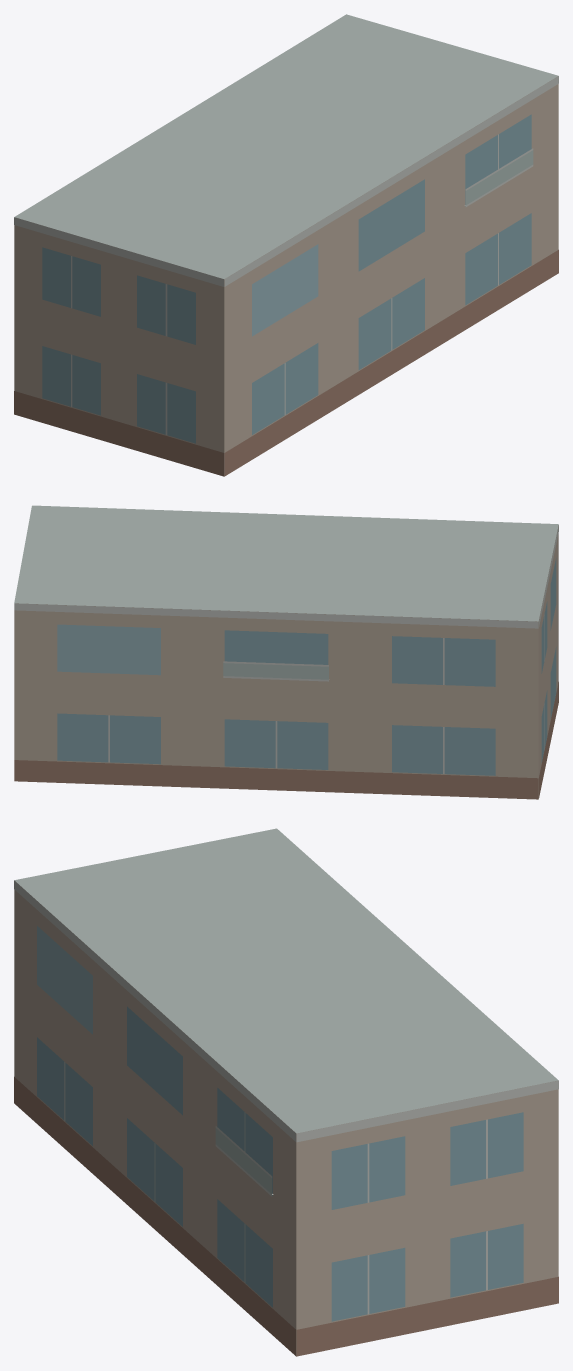
File: survey-upis-32930641.glb
3 views of the same model, one above another, from view 1: azimuth 30°, elevation 25°; view 2: azimuth 150°, elevation 25°; view 3: azimuth 270°, elevation 25° (orthographic). The views are drawn at different scales.
Parts seen in each view (by area): view 1: survey-upis-32930641.tmp; view 2: survey-upis-32930641.tmp; view 3: survey-upis-32930641.tmp.
Boxes of the visible parts, bbox=[...] form: survey-upis-32930641.tmp: bbox=[14, 14, 558, 476]; survey-upis-32930641.tmp: bbox=[14, 505, 558, 799]; survey-upis-32930641.tmp: bbox=[14, 828, 558, 1356].
Bounding box in the file's own units: 17.91 × 6.1 × 13.51.
